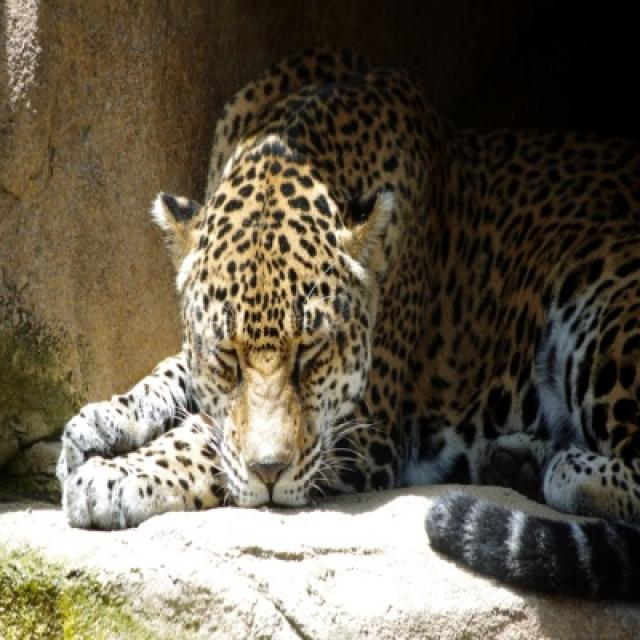Jaguar: (54, 46, 638, 600)
